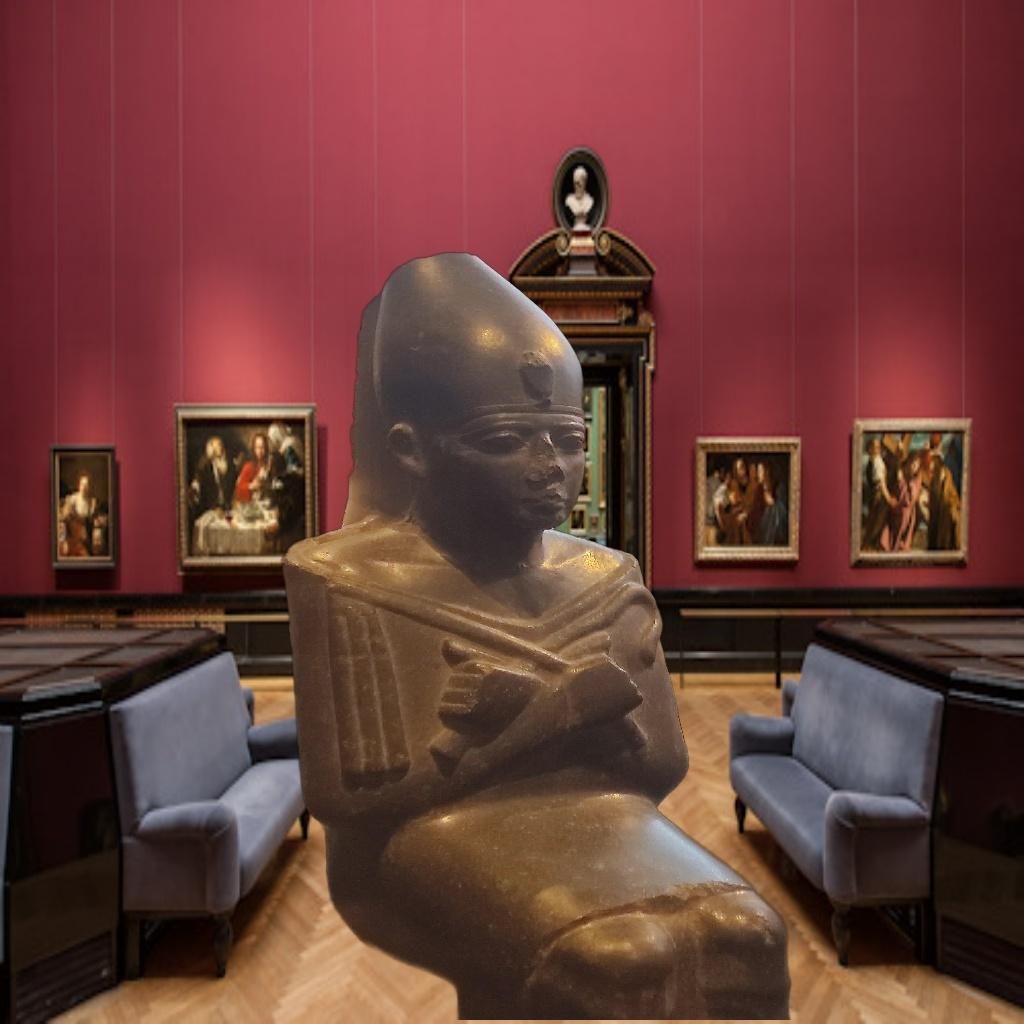Statue of Sobekhotep V: (274, 248, 794, 1020)
